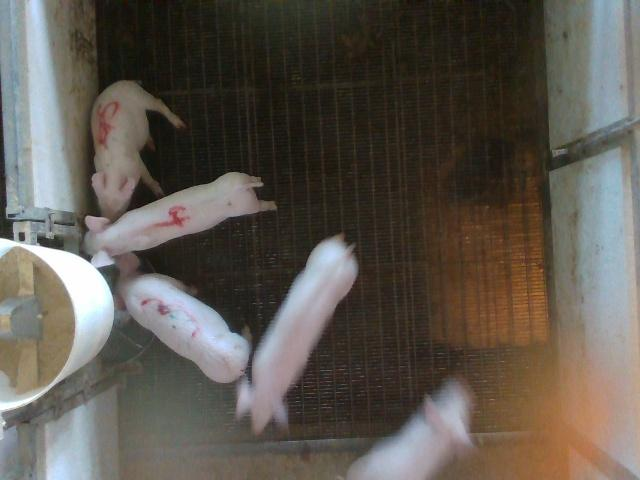pig-3: (115, 252, 250, 382)
pig-4: (85, 172, 276, 268)
pig-5: (91, 80, 185, 221)
